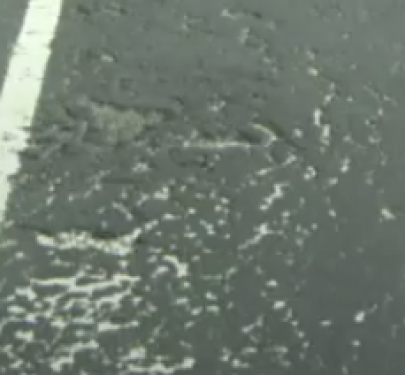Retak Buaya: (1, 85, 370, 373), (64, 3, 146, 89)
